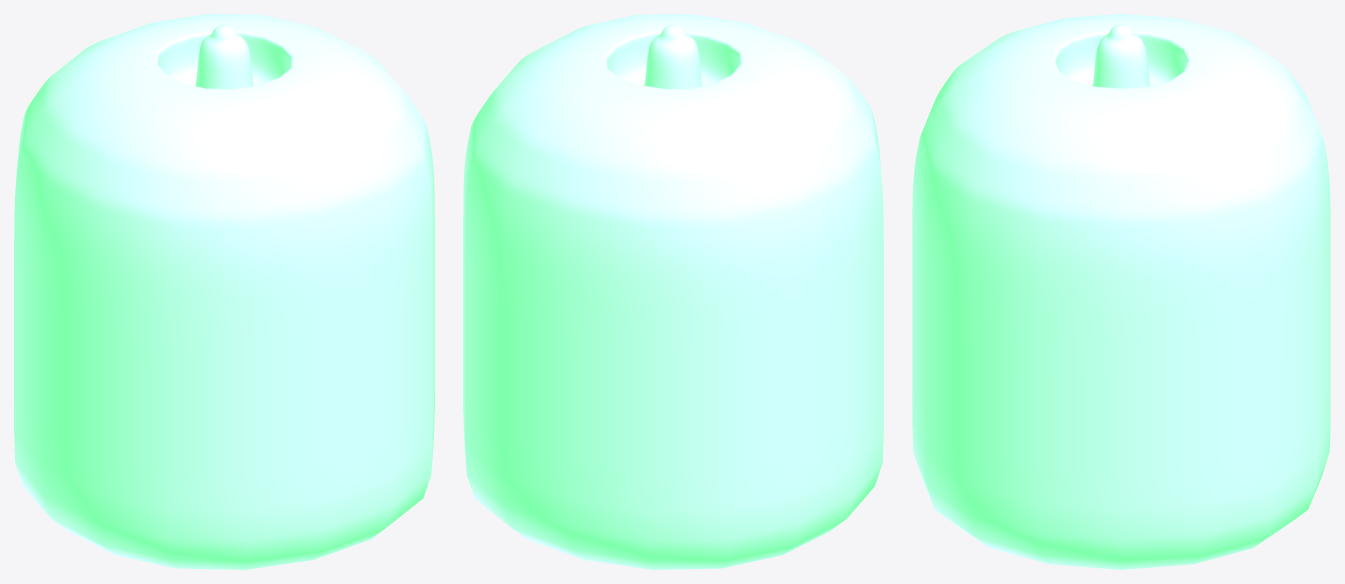
Rendered from toolTip.glb.
3 views of the same model, side by side, from view 1: azimuth 30°, elevation 25°; view 2: azimuth 150°, elevation 25°; view 3: azimuth 270°, elevation 25° (orthographic).
Parts seen in each view (by area): view 1: ToolTip; view 2: ToolTip; view 3: ToolTip.
Part boxes in pixels (x1=…): ToolTip: x1=14, y1=14, x2=434, y2=569; ToolTip: x1=463, y1=14, x2=883, y2=569; ToolTip: x1=912, y1=14, x2=1330, y2=569.
Size of the model in its own units: 0.4106 by 0.53 by 0.4106.
